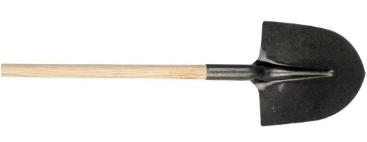PELLE: (0, 21, 367, 135)
